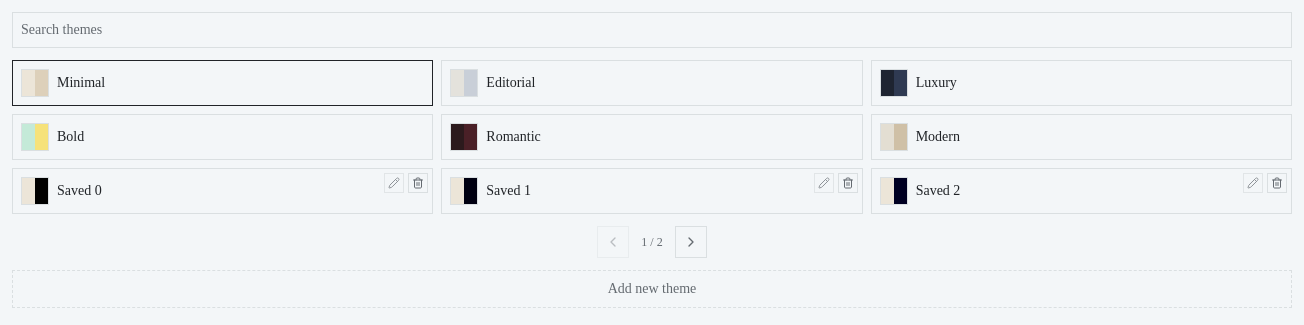
Test: ThemeGrid › shows at most 9 tiles per page and paginates beyond 9
The width and height of the screenshot is (1304, 325).
Click the button named "More themes". click: x=691, y=242
box: [675,226,707,258]
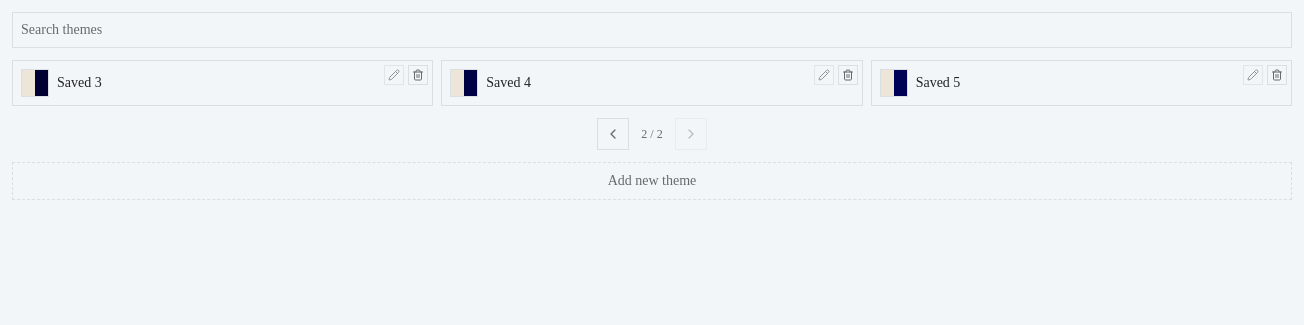
expect the number of buttons named "Apply theme:" is 3: met, box [13,61,432,105]; [442,61,862,105]; [872,61,1291,105]
